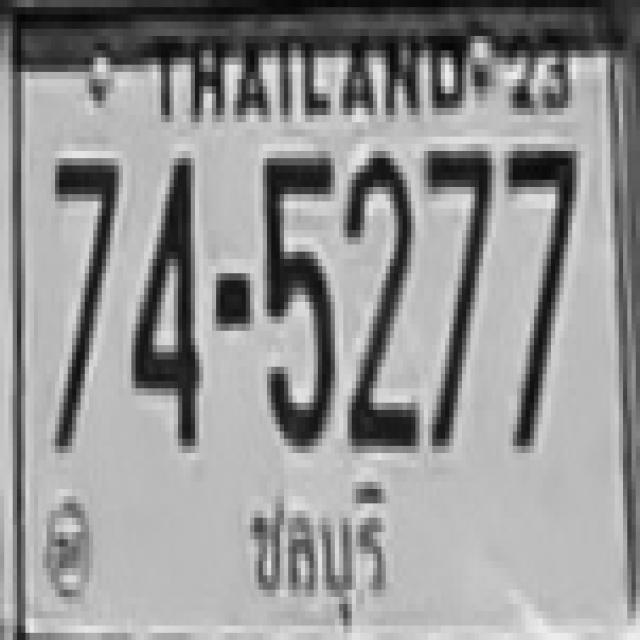2: (346, 151, 414, 446)
4: (127, 151, 195, 439)
5: (258, 151, 330, 446)
7: (504, 144, 572, 446), (422, 144, 489, 446), (51, 151, 114, 446)
Chonburi: (235, 478, 399, 636)
